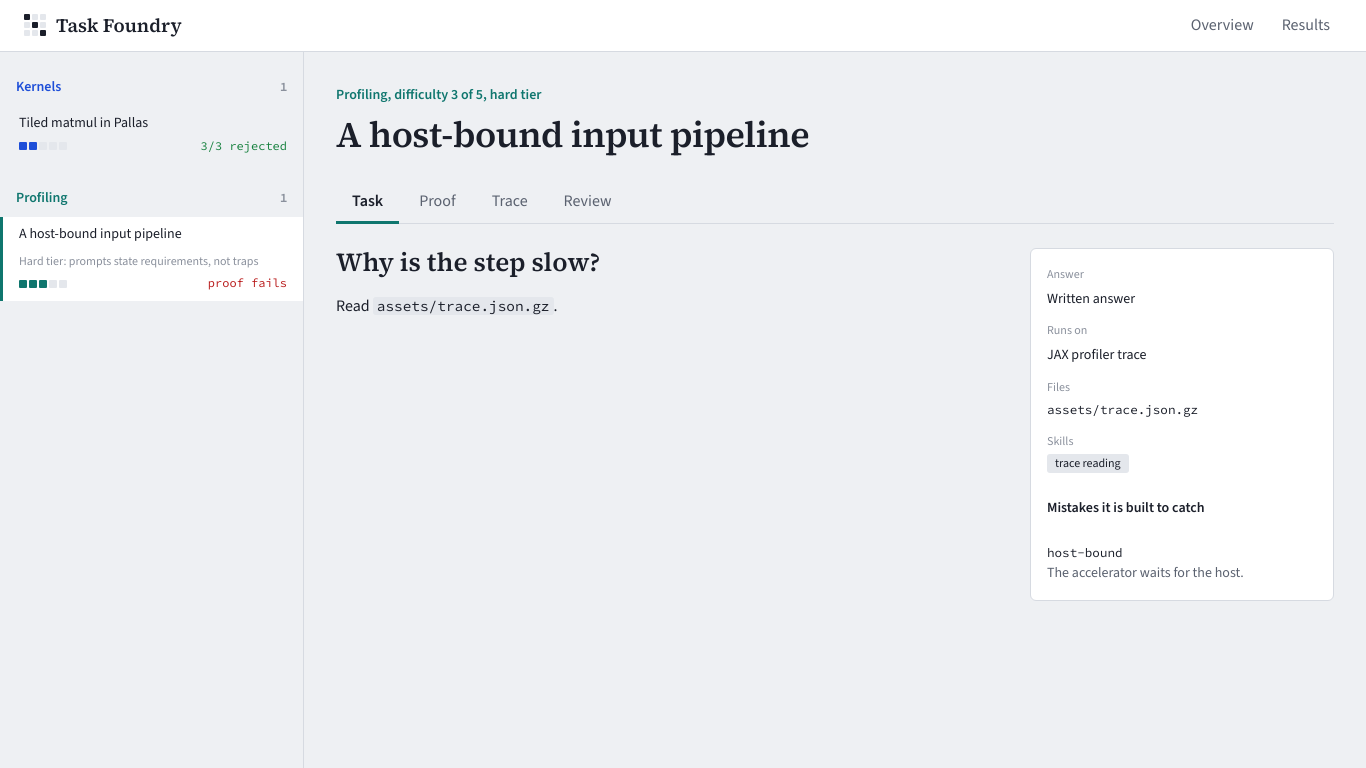
Scenario: a task › opens on the prompt and switches tabs through the address
Expected: the heading "Why is the step slow?" is shown, [336,244,600,280]
Click the tab "Proof" at (437, 201), box [403,179,472,223]
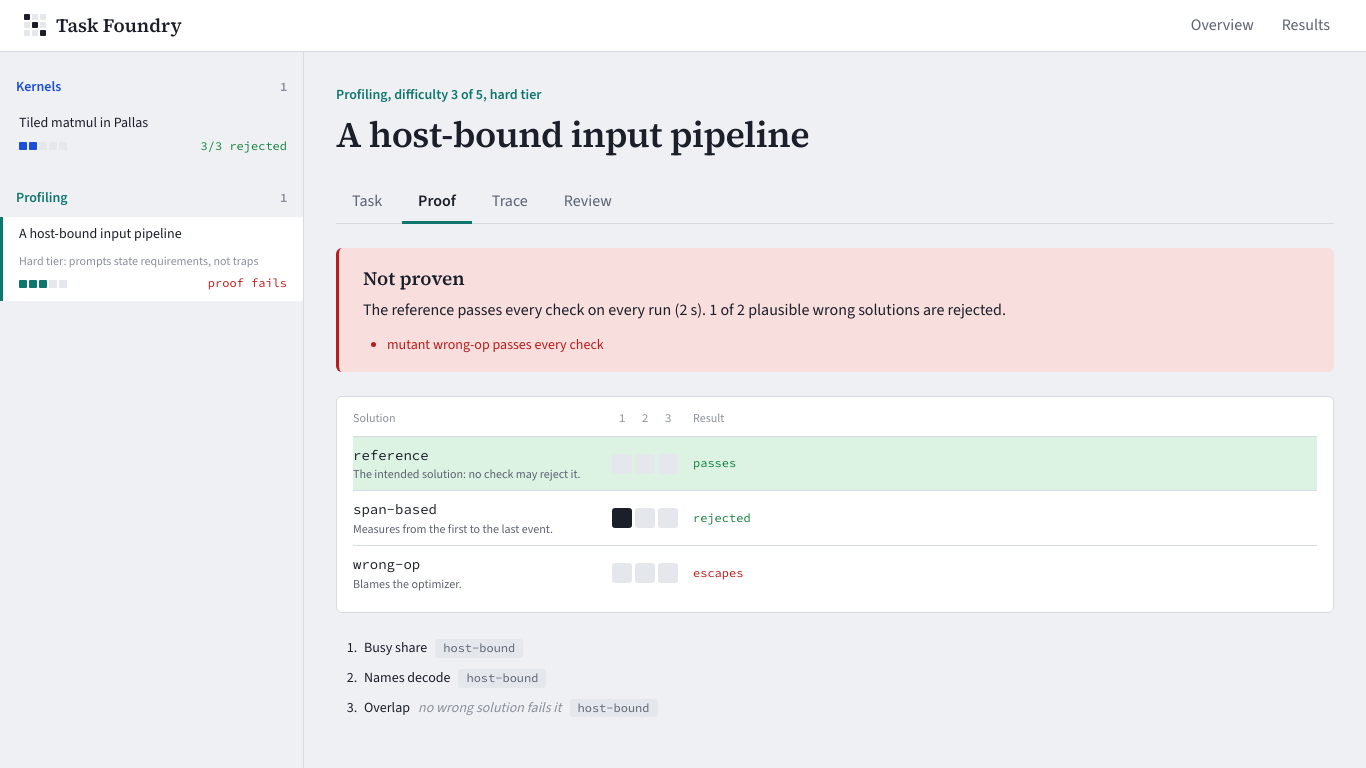
Expected: the text "Not proven" is shown, [363,265,465,291]
